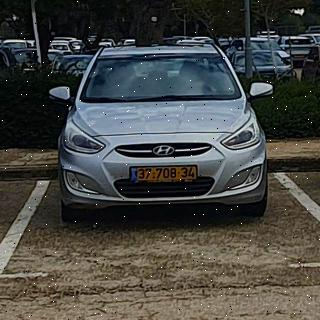LicensePlate: (138, 167, 196, 180)
